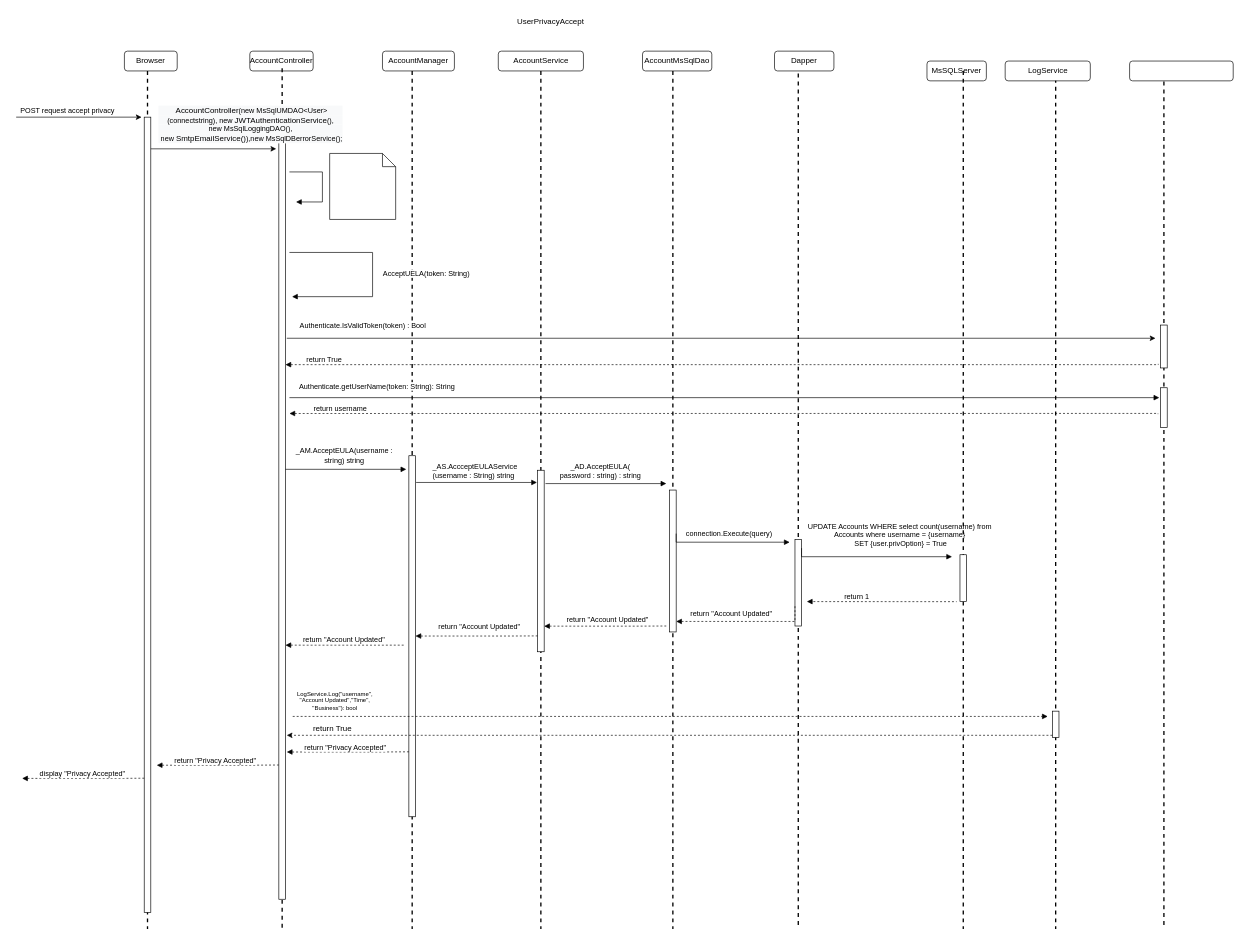
The diagram is 1245 pixels wide and 941 high, and some of its shapes have lost their labels. The shapes that lost their labels are listed below. From the top down, each one's centre as x and y in pixels, then its label:
At pixel 1181 70: "JWTAuthenticationService".
At pixel 362 186: "Dependency Injection".
